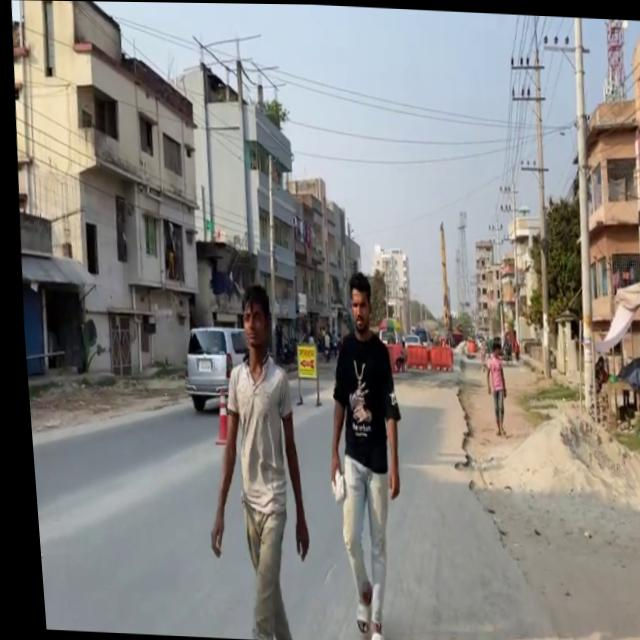Construction-barrier: (451, 474, 562, 640), (445, 379, 471, 465)
Fallen-tree: (387, 348, 401, 370)
Garbage: (287, 340, 317, 404)
Garbage-bin: (182, 279, 314, 640), (304, 268, 412, 640), (476, 339, 503, 434)
Light-pole: (553, 15, 608, 415)
Pothole: (439, 346, 640, 640)
Rickshaw: (289, 341, 312, 377)
